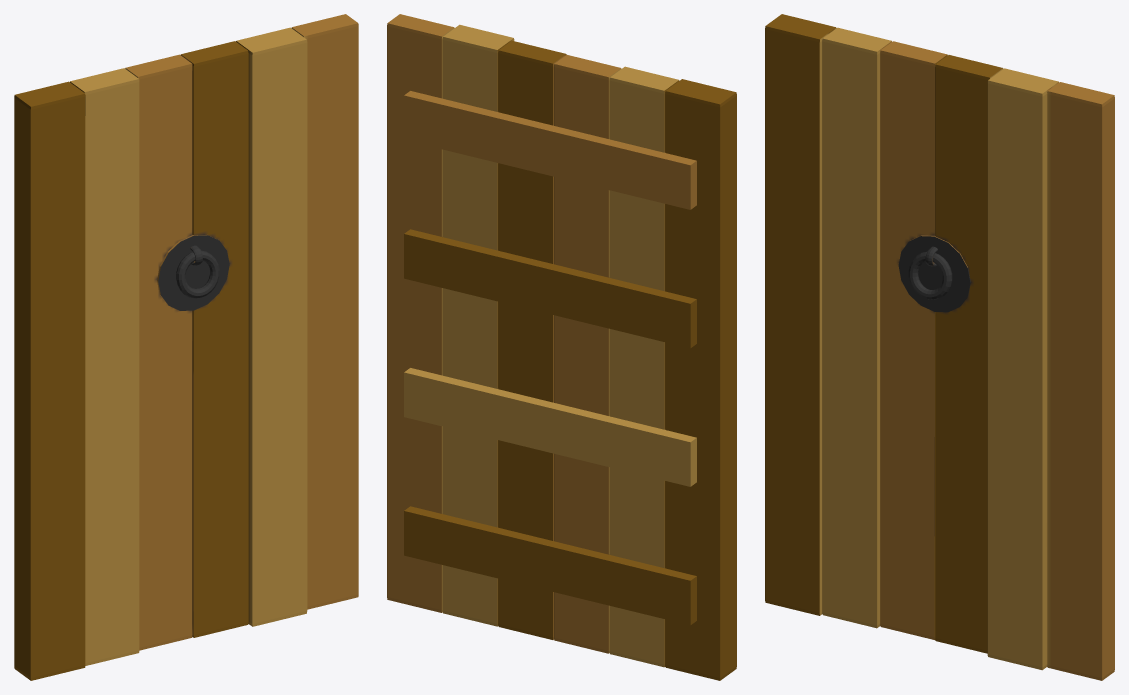
File: Door.fbx
3 views of the same model, side by side, from view 1: azimuth 30°, elevation 25°; view 2: azimuth 150°, elevation 25°; view 3: azimuth 330°, elevation 25° (orthographic).
Parts seen in each view (by area): view 1: Door; view 2: Door; view 3: Door.
Part boxes in pixels (bbox=[...]): Door: bbox=[14, 14, 358, 680]; Door: bbox=[387, 14, 736, 680]; Door: bbox=[765, 14, 1114, 680].
Bounding box in the file's own units: 605 × 1000 × 88.89.
